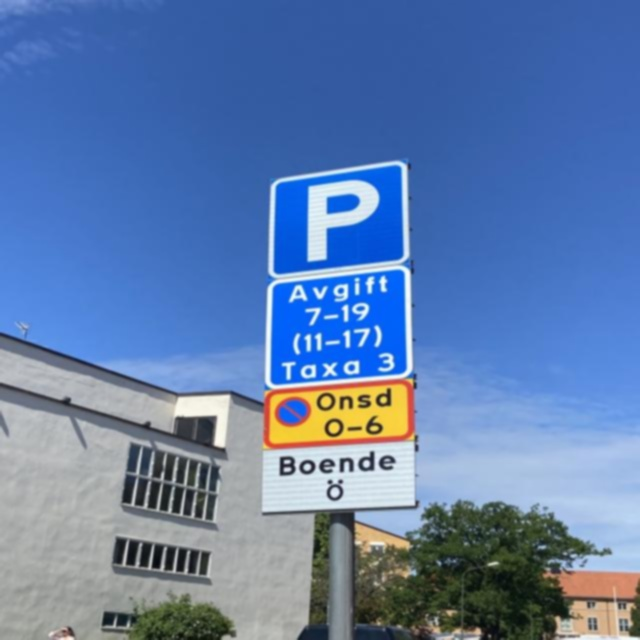P-skylt: (274, 167, 408, 268)
